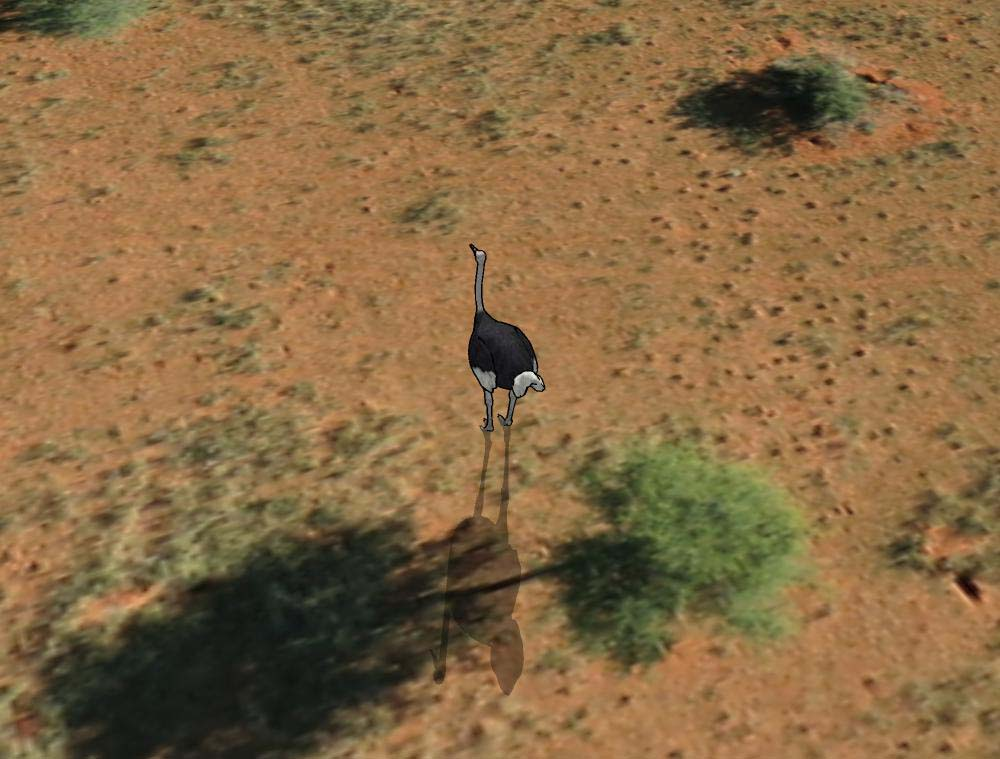ostrich: (451, 238, 546, 435)
